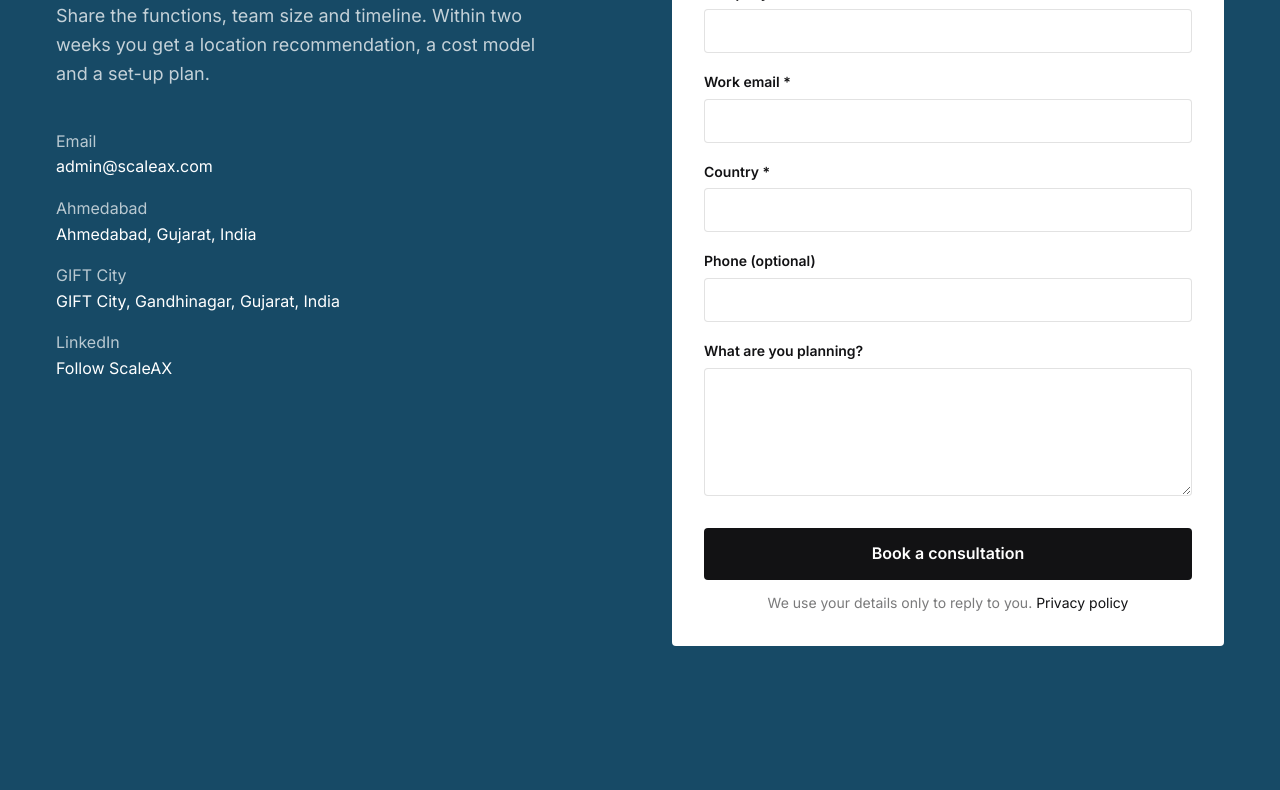
Test: ConsultationForm › shows a required-field error for each empty field and does not submit
This screenshot has width=1280, height=790.
(page scrolled)
Click the button "Book a consultation": (948, 554) [704, 528, 1192, 580]
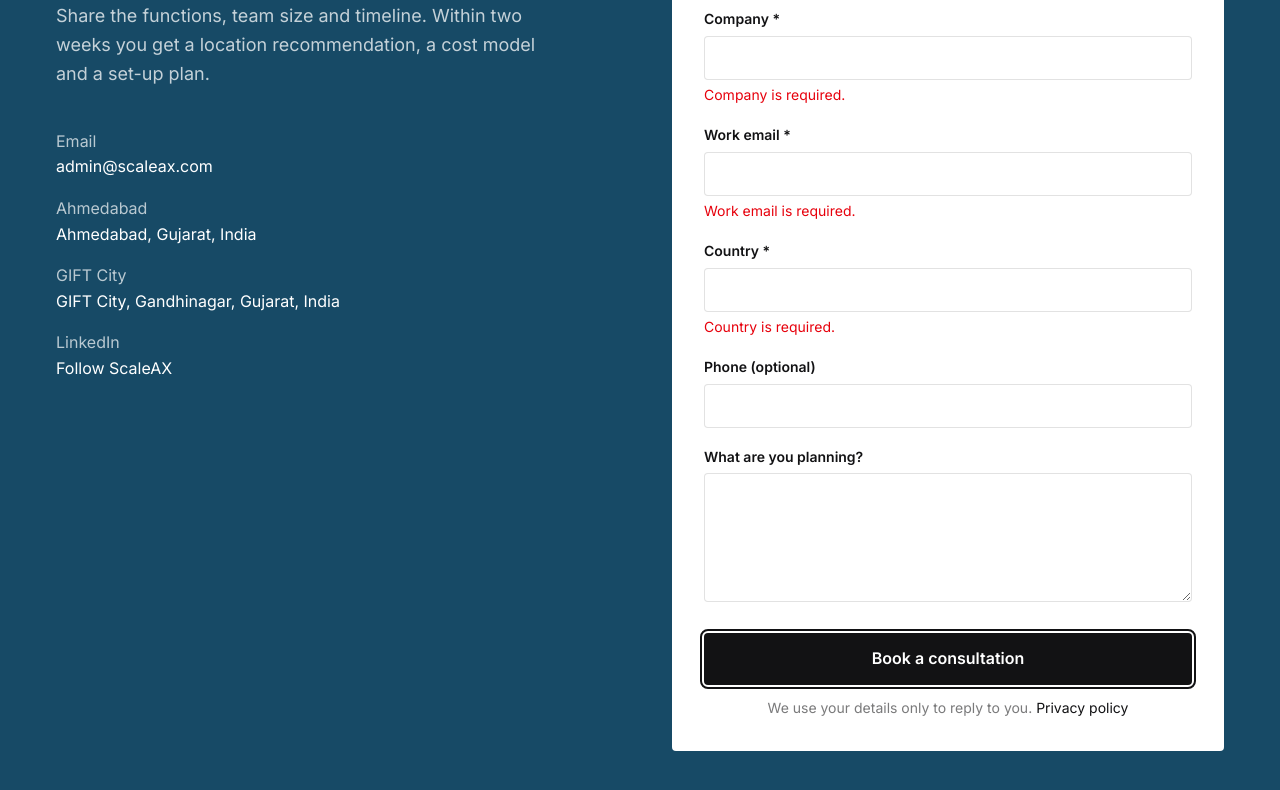
Now the text "Company is required." is shown, box [704, 86, 845, 103]
Now the text "Work email is required." is shown, box [704, 202, 856, 219]
Now the text "Country is required." is shown, box [704, 318, 835, 334]
